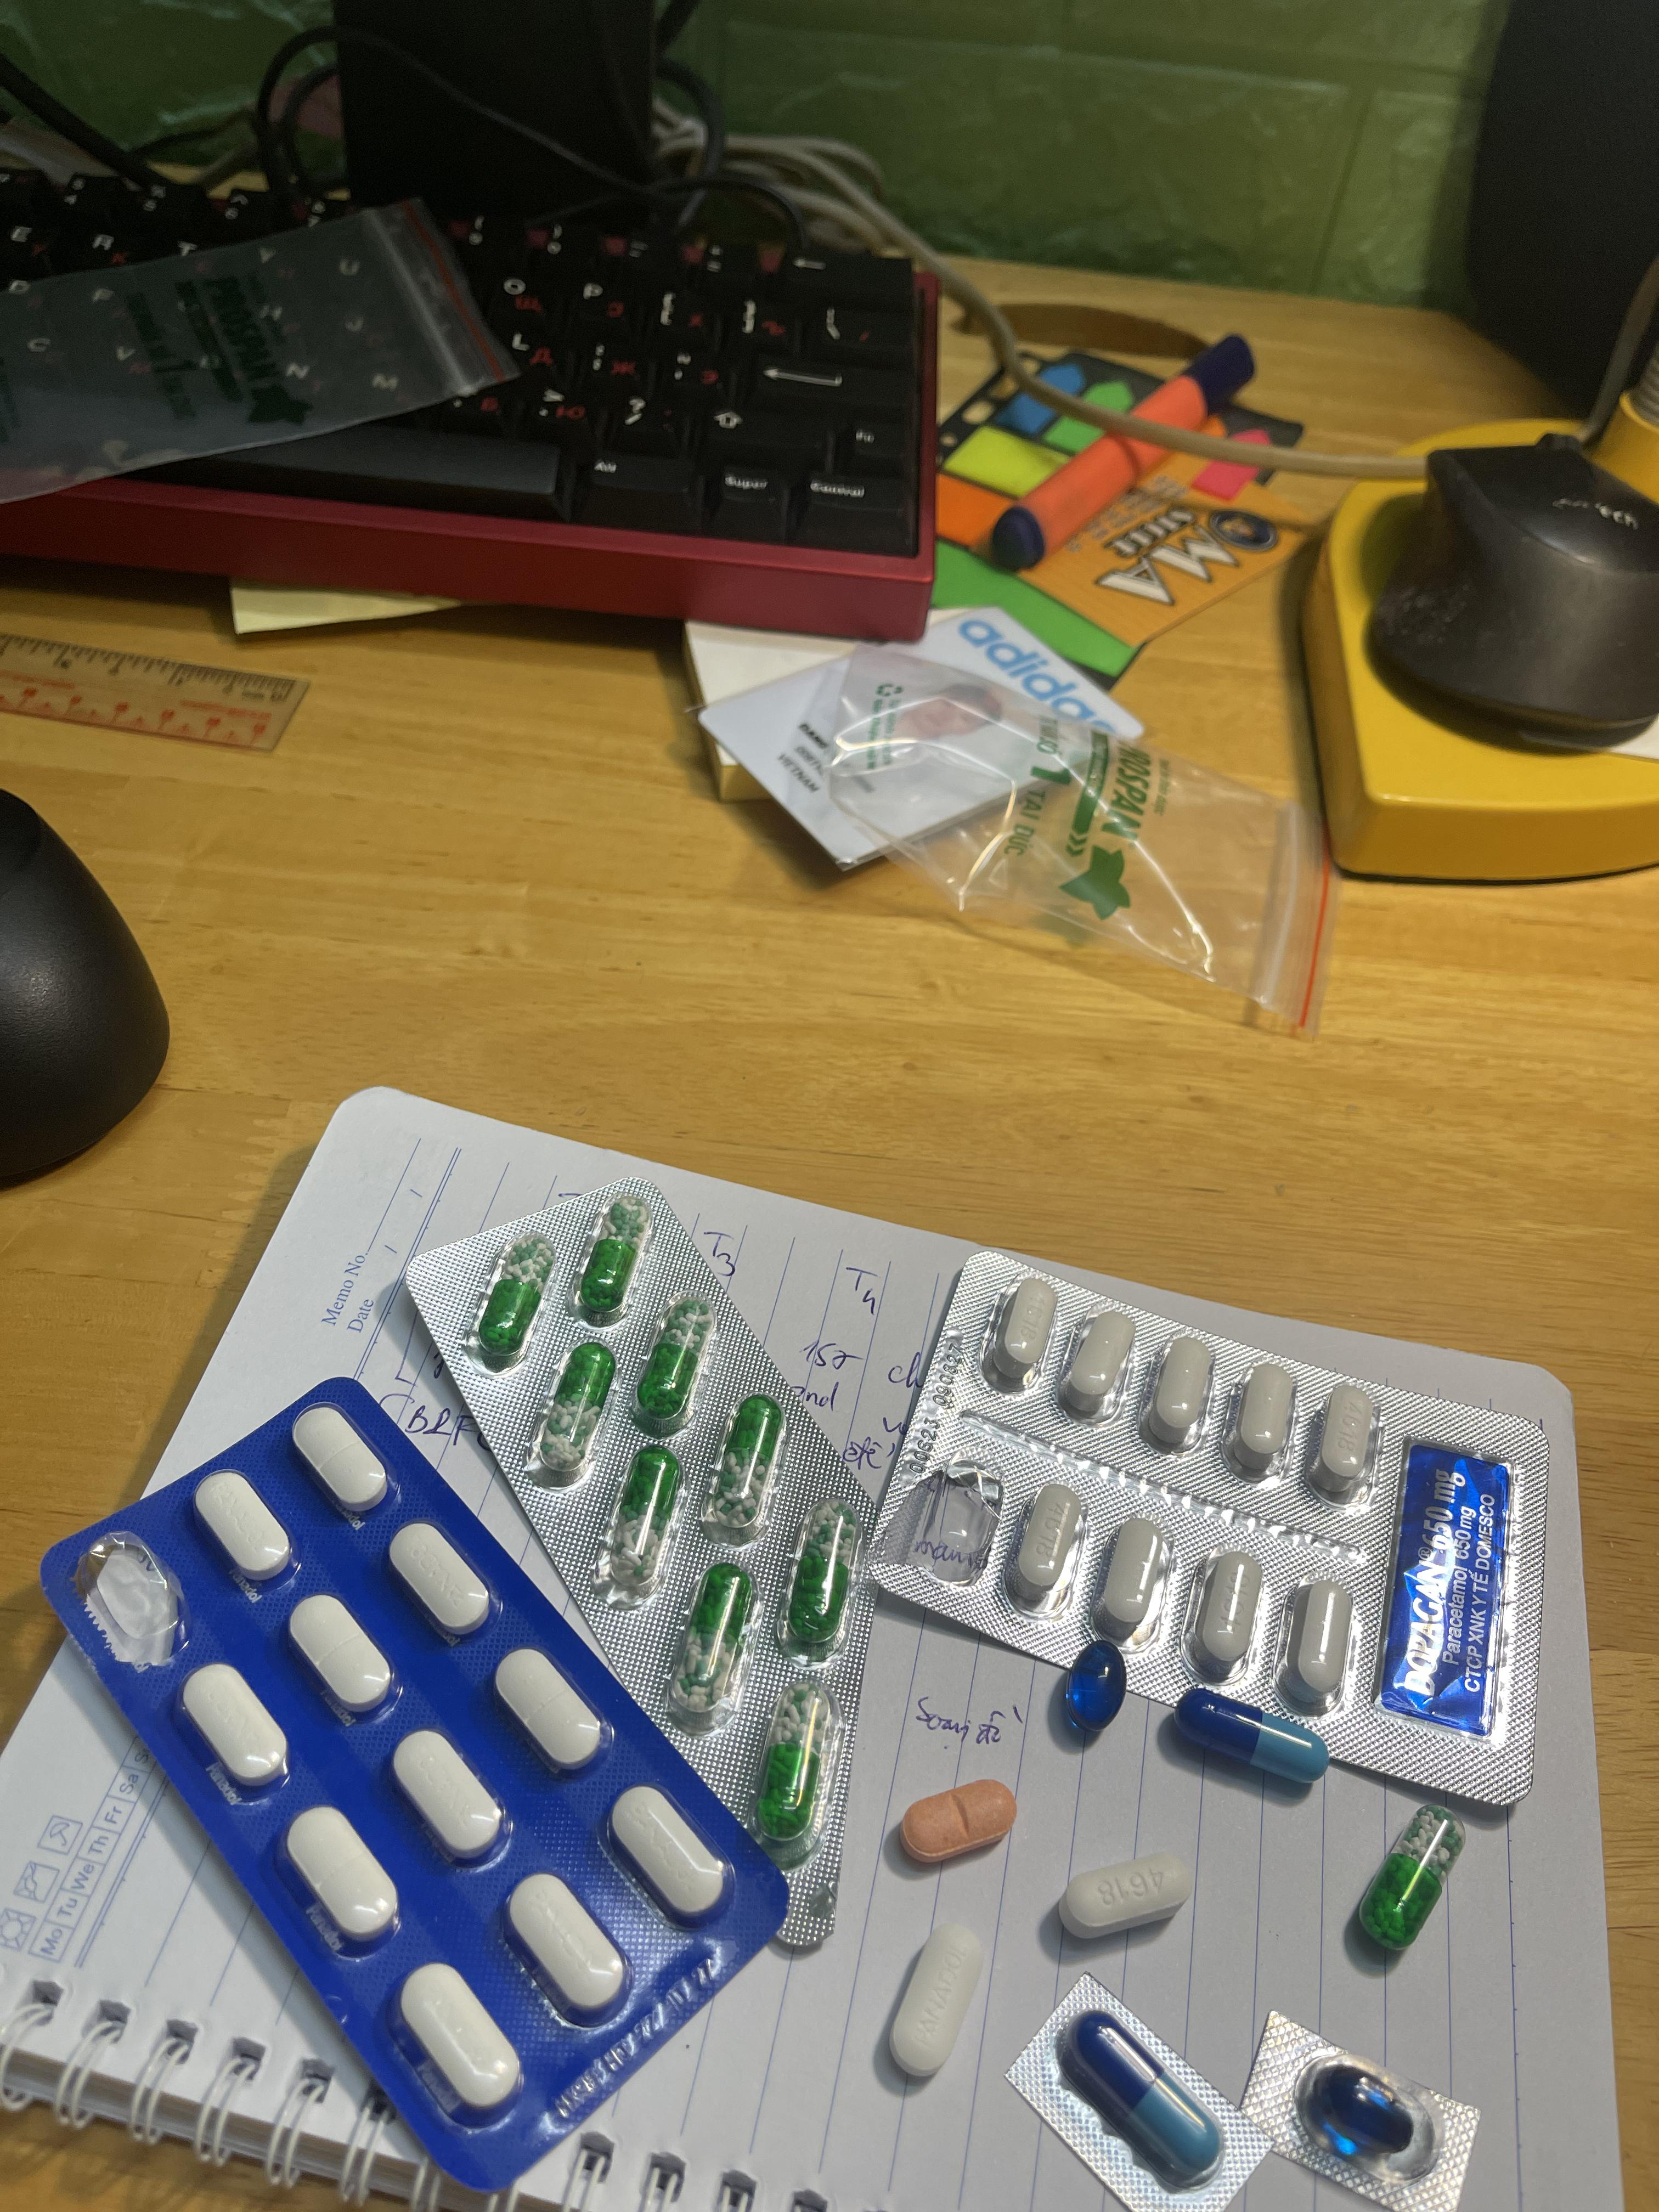Lincomyxin_500mg: (1307, 2064, 1417, 2158), (1056, 1641, 1124, 1740)
Loratadine_10mg: (901, 1778, 1016, 1862)
Paracetamol_350mg: (399, 1961, 523, 2113), (505, 1872, 629, 2017), (608, 1789, 730, 1925), (284, 1808, 401, 1949), (392, 1728, 507, 1862), (892, 1925, 985, 2078), (495, 1648, 606, 1771), (179, 1663, 288, 1789), (289, 1594, 397, 1717), (389, 1521, 495, 1639), (193, 1470, 293, 1581), (293, 1404, 390, 1517)
Paracetamol_500mg: (1058, 1850, 1194, 1942), (1002, 1480, 1086, 1609), (1089, 1514, 1171, 1641), (1187, 1545, 1265, 1676), (1056, 1306, 1140, 1421), (1138, 1329, 1216, 1451), (1281, 1573, 1351, 1707), (983, 1275, 1061, 1390), (1222, 1359, 1297, 1477), (1309, 1381, 1378, 1500)
Paracetamol_650mg: (1352, 1806, 1462, 1954), (666, 1559, 758, 1723), (753, 1684, 836, 1853), (596, 1446, 687, 1594), (528, 1339, 619, 1474), (777, 1500, 857, 1648), (634, 1292, 718, 1426), (704, 1397, 784, 1536), (575, 1193, 653, 1317), (476, 1238, 558, 1355)
pill: (1056, 2013, 1218, 2179), (1171, 1691, 1324, 1789)
